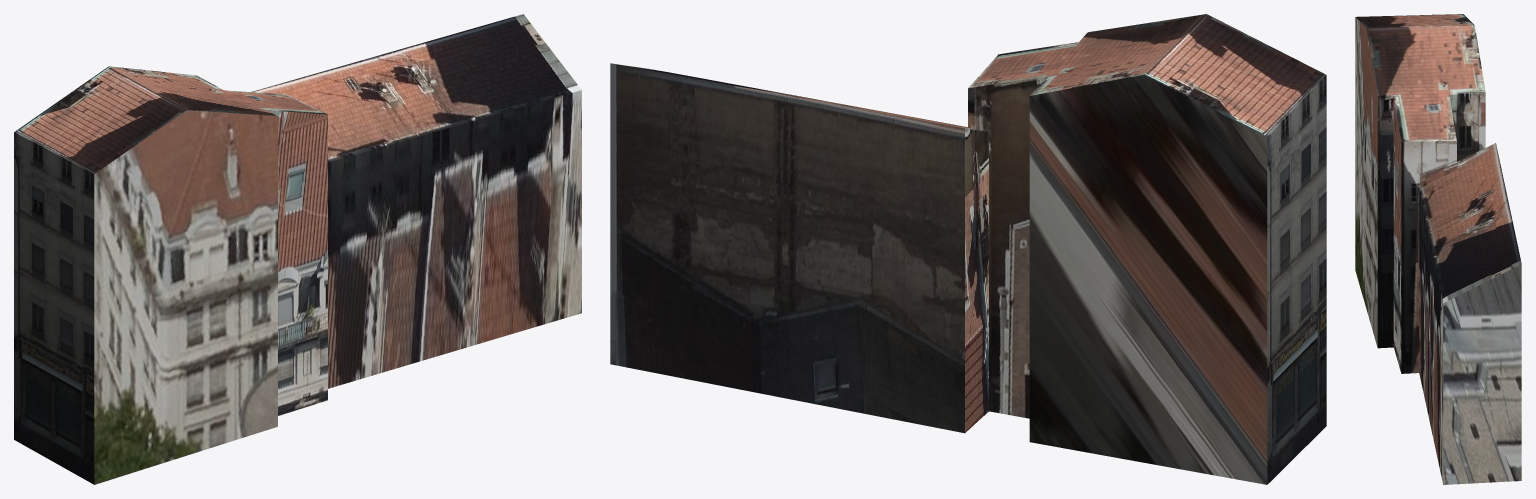
3 renders of one model, left to right at view 1: azimuth 30°, elevation 25°; view 2: azimuth 150°, elevation 25°; view 3: azimuth 270°, elevation 25°, orthographic. The views are drawn at different scales.
Visible parts, largest first — view 1: Z_UP; view 2: Z_UP; view 3: Z_UP.
Part boxes in pixels (x1,y1,x2,y2): Z_UP: [14, 14, 581, 484]; Z_UP: [610, 14, 1326, 484]; Z_UP: [1355, 14, 1521, 484].
Size of the model in its own units: 36.22 by 21.53 by 11.56.
Materials: 2 (1 with a texture image).
